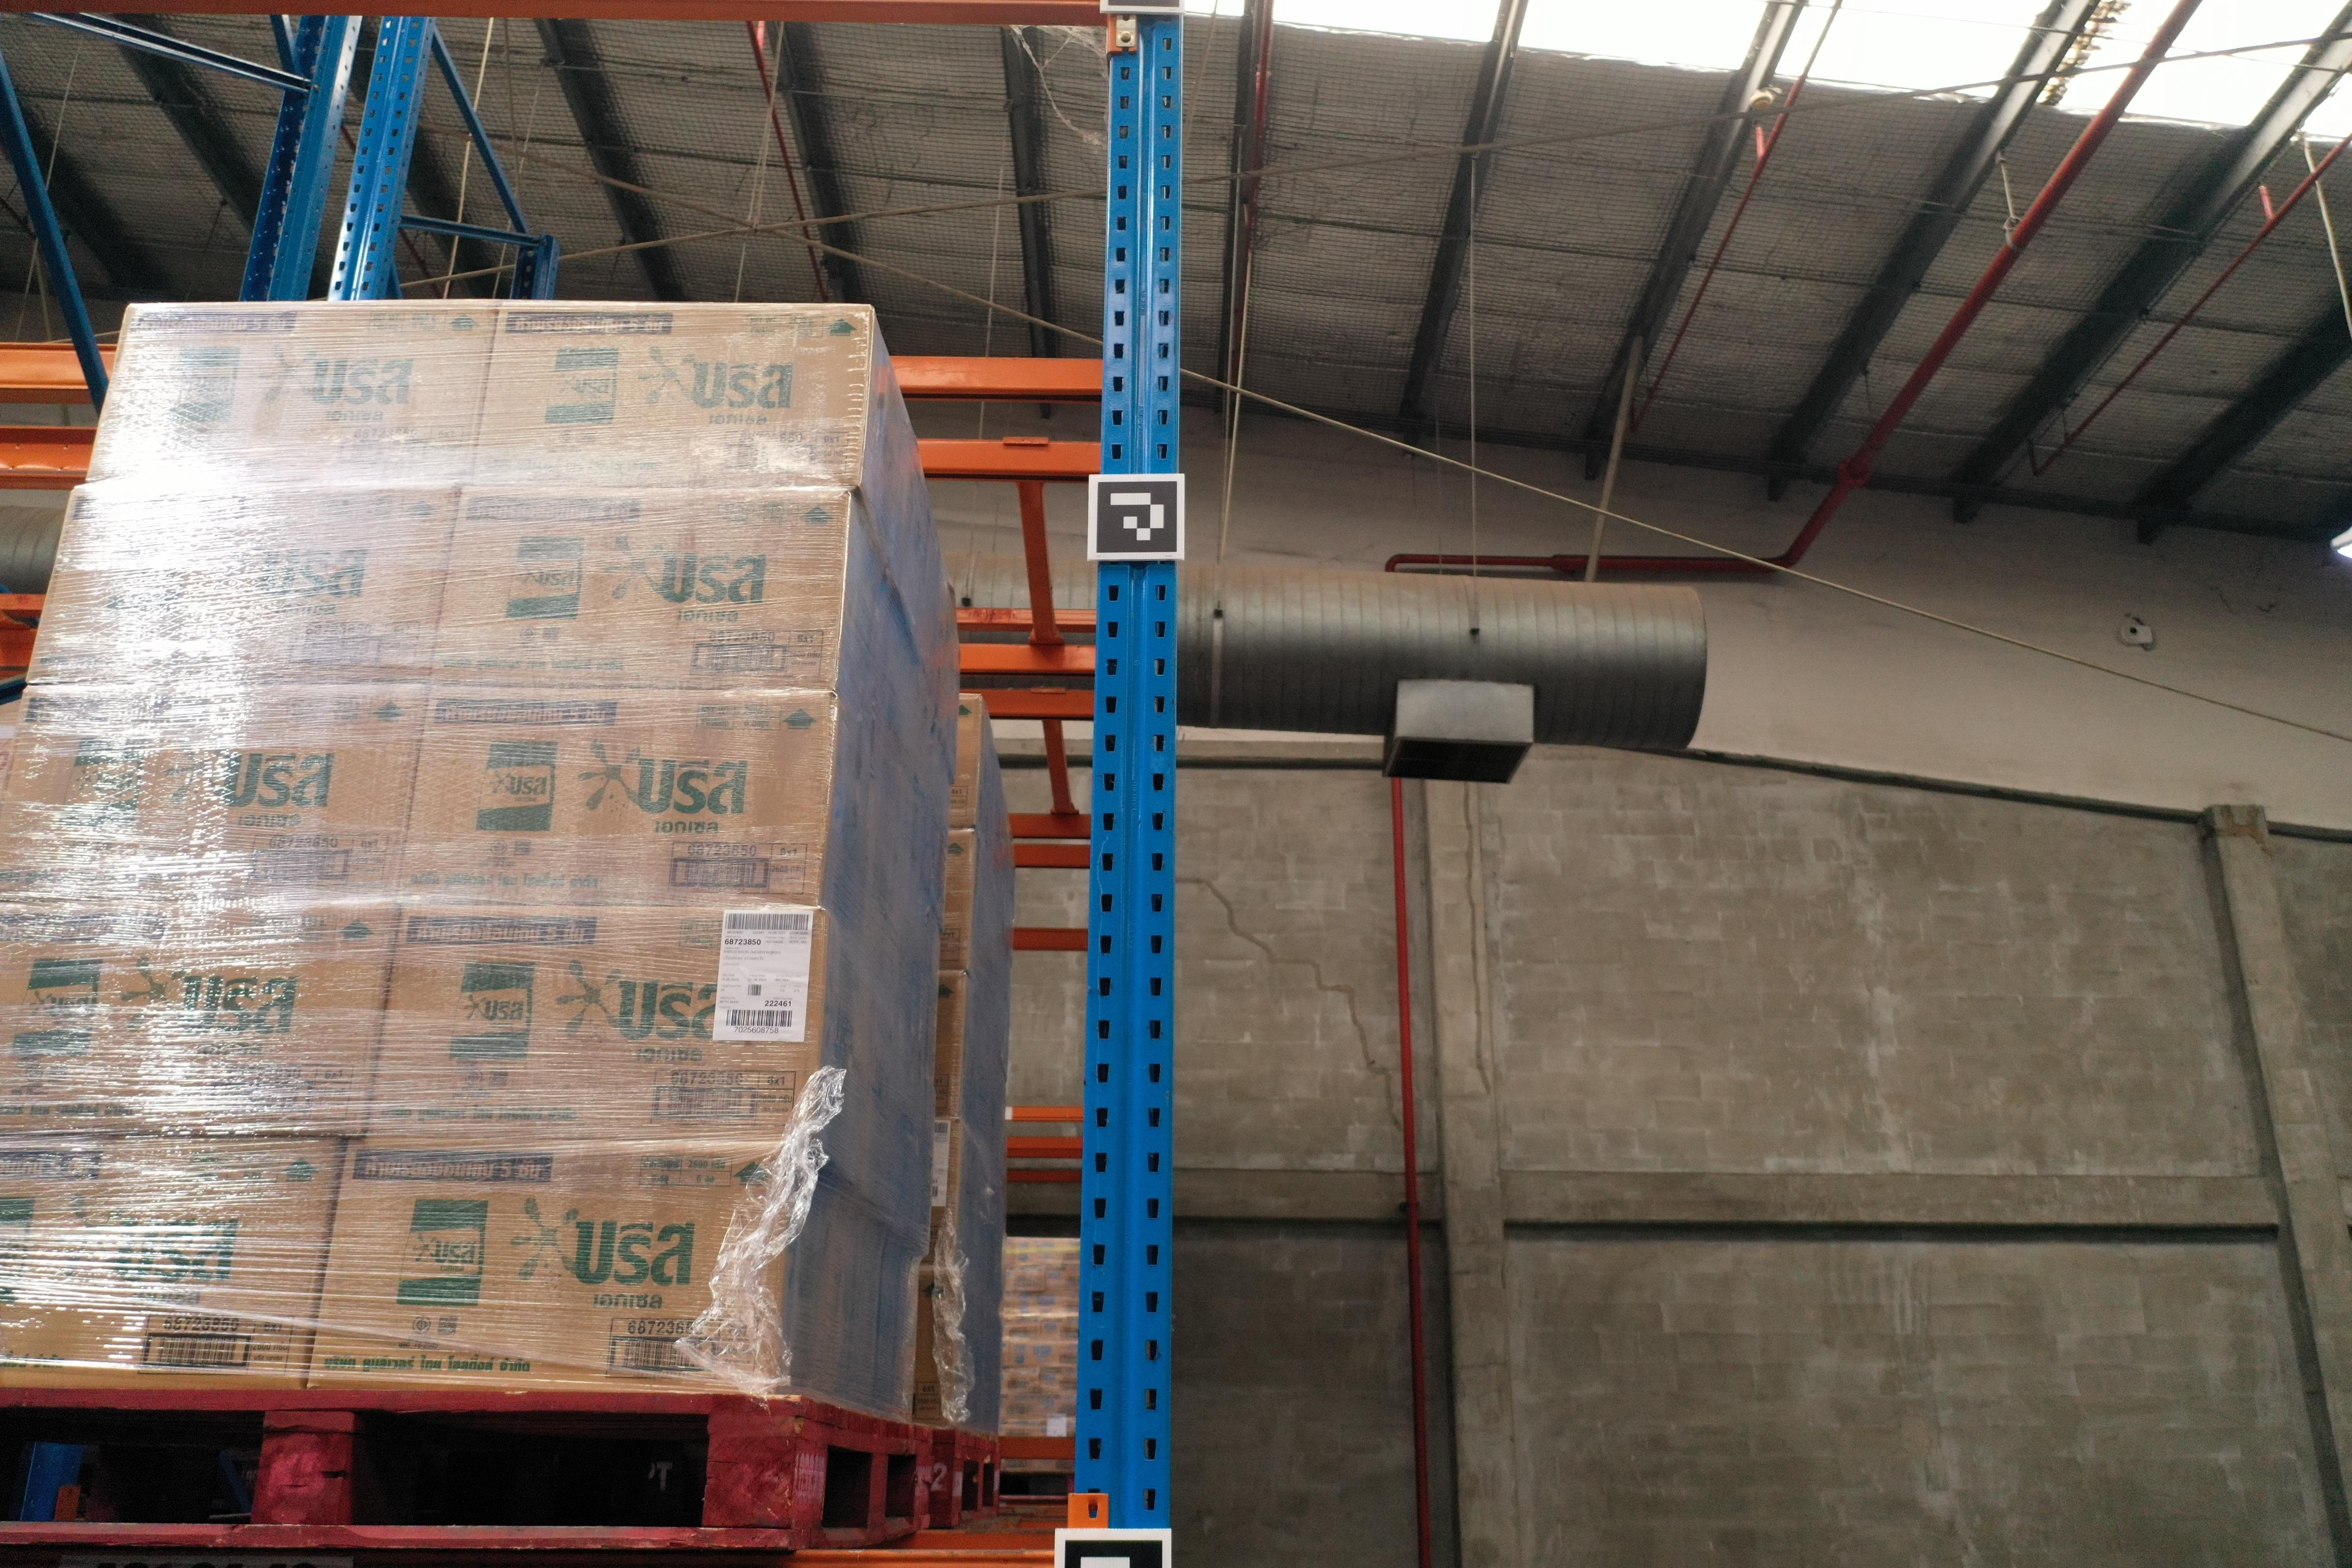-: (304, 1134, 807, 1391), (360, 901, 829, 1153), (397, 686, 843, 913), (0, 894, 401, 1141), (0, 682, 430, 906), (19, 485, 457, 688), (0, 1134, 345, 1391), (432, 485, 854, 695), (462, 299, 877, 495), (80, 299, 499, 486)
